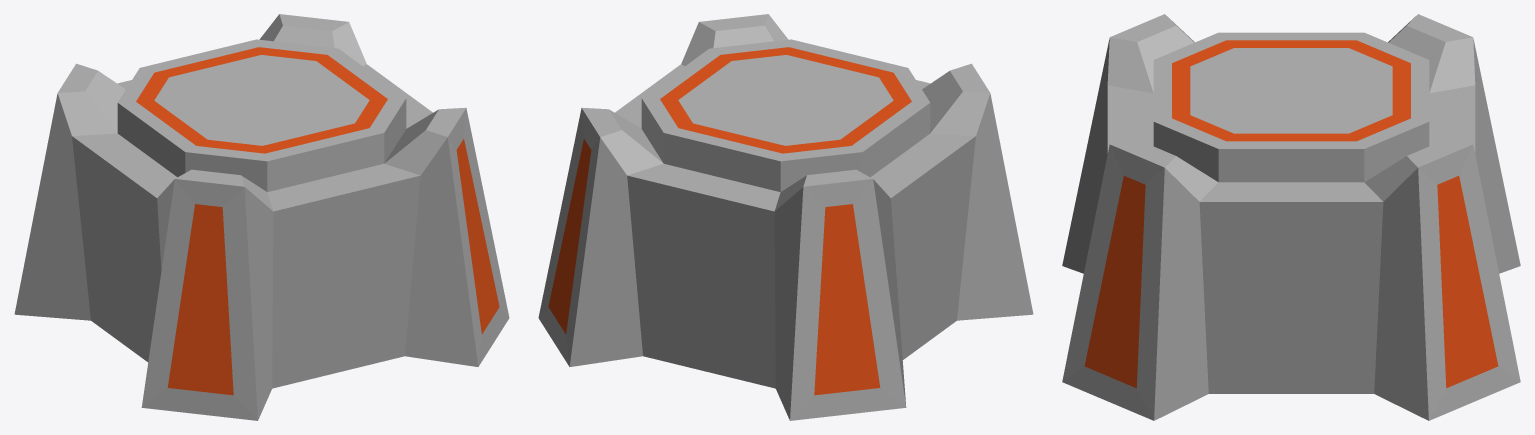
File: Wizzard Tower lev 2.fbx
3 views of the same model, side by side, from view 1: azimuth 30°, elevation 25°; view 2: azimuth 150°, elevation 25°; view 3: azimuth 270°, elevation 25° (orthographic). The views are drawn at different scales.
Visible parts, largest first — view 1: Torre Wizzard.012; view 2: Torre Wizzard.012; view 3: Torre Wizzard.012.
Part boxes in pixels (bbox=[...]): Torre Wizzard.012: bbox=[14, 14, 509, 420]; Torre Wizzard.012: bbox=[538, 14, 1033, 420]; Torre Wizzard.012: bbox=[1062, 14, 1520, 420].
Size of the model in its own units: 18.71 by 10.5 by 18.71.
